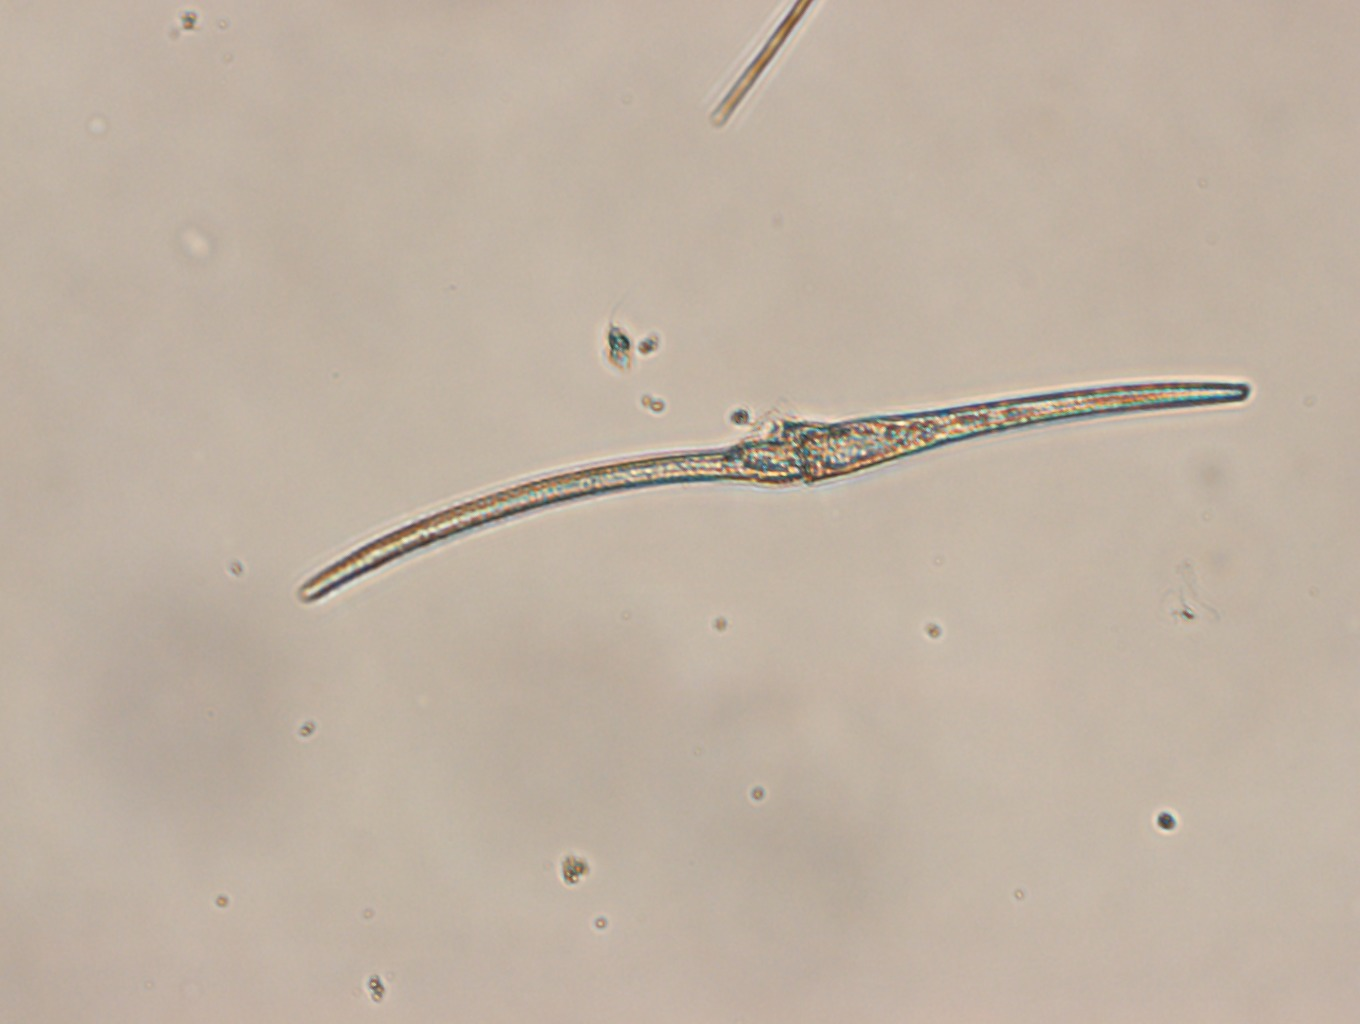ceratium fusus: (298, 381, 1250, 608)
